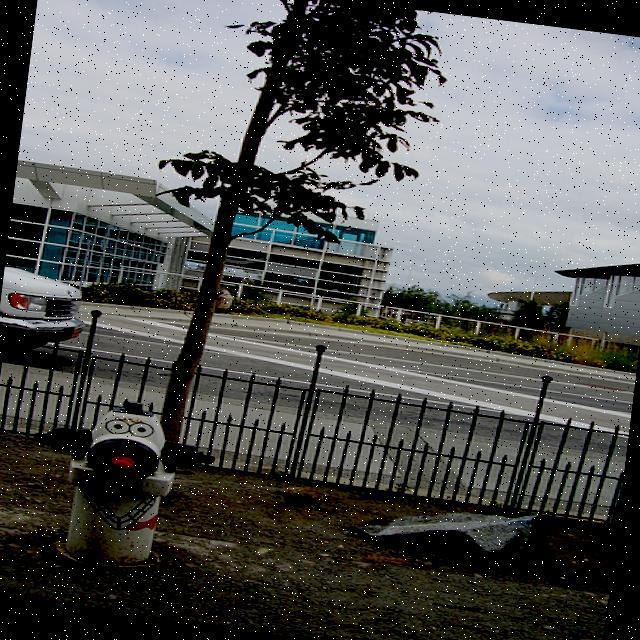fire_hydrant: (22, 388, 224, 578)
